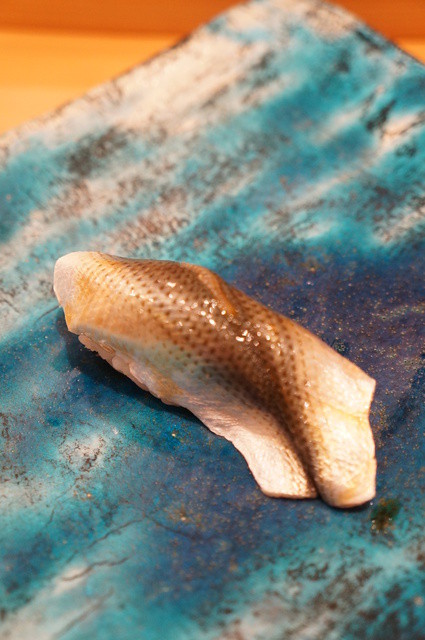spotted-shad: (49, 247, 379, 514)
